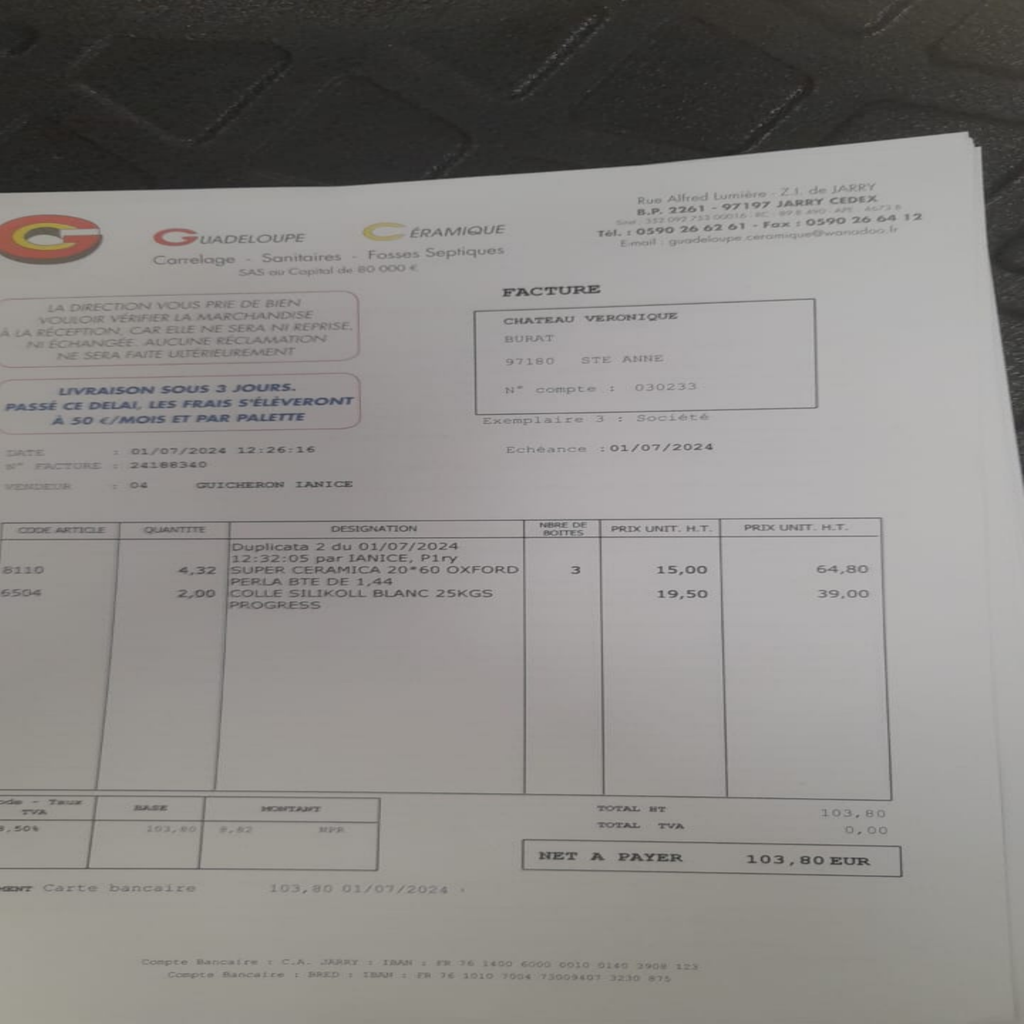recipt: (4, 130, 1011, 1007)
